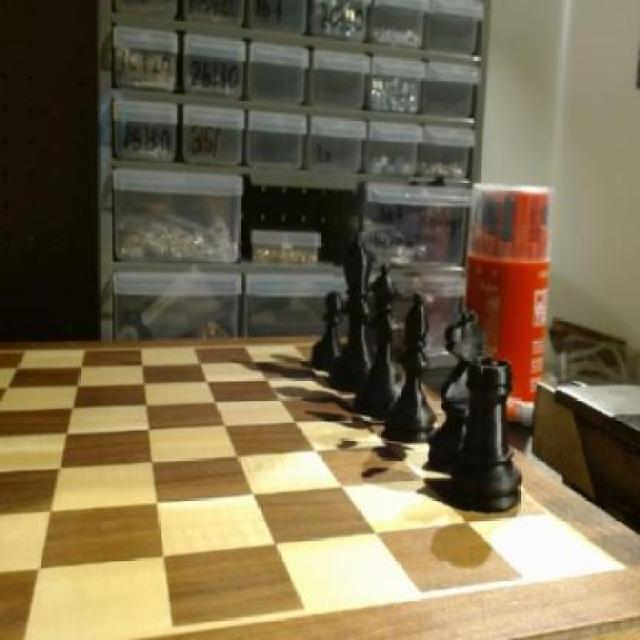bishop: (386, 296, 438, 444)
black-bishop: (334, 232, 378, 392)
black-king: (429, 314, 480, 477)
black-knight: (311, 287, 346, 378)
black-pawn: (355, 263, 404, 417)
black-queen: (452, 354, 526, 518)
